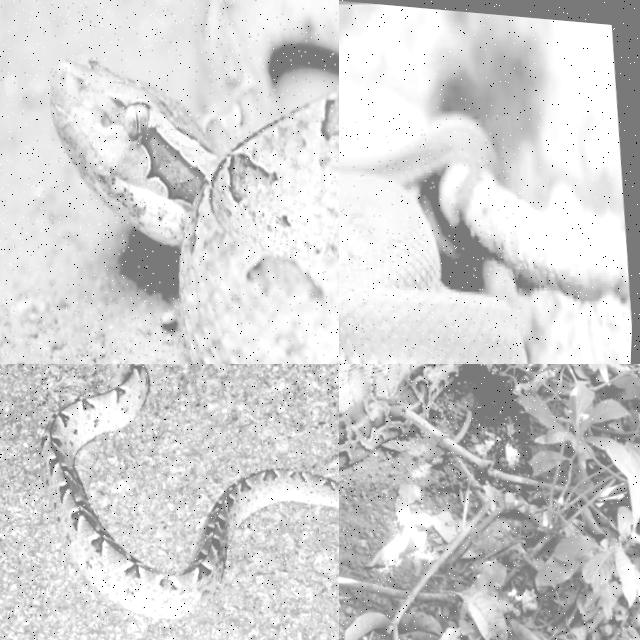Calloselasma rhodostoma: (50, 0, 338, 363), (39, 364, 338, 619)
Python bivittatus: (339, 364, 461, 469)
Trimeresurus macrops: (339, 117, 525, 363)
snake: (50, 0, 338, 363), (39, 364, 338, 619), (339, 117, 525, 363), (339, 364, 461, 469)
